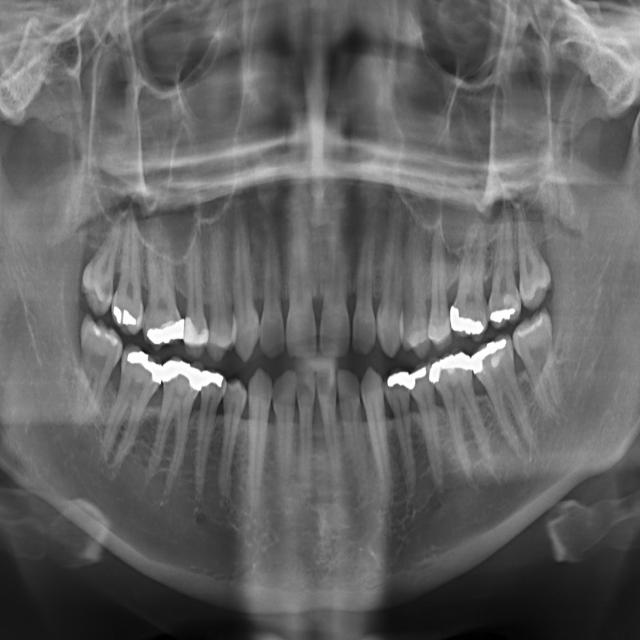AmalgamRestoration: (470, 332, 512, 376), (428, 349, 471, 384), (159, 359, 200, 395), (450, 304, 487, 338), (146, 315, 184, 345), (127, 351, 158, 386), (386, 372, 410, 402), (488, 306, 516, 326), (411, 368, 430, 396), (112, 308, 140, 327), (202, 370, 224, 390)
CompositeResinRestoration: (84, 325, 122, 358), (185, 314, 208, 348), (507, 287, 518, 309)
DentalCaries: (100, 271, 115, 301)
